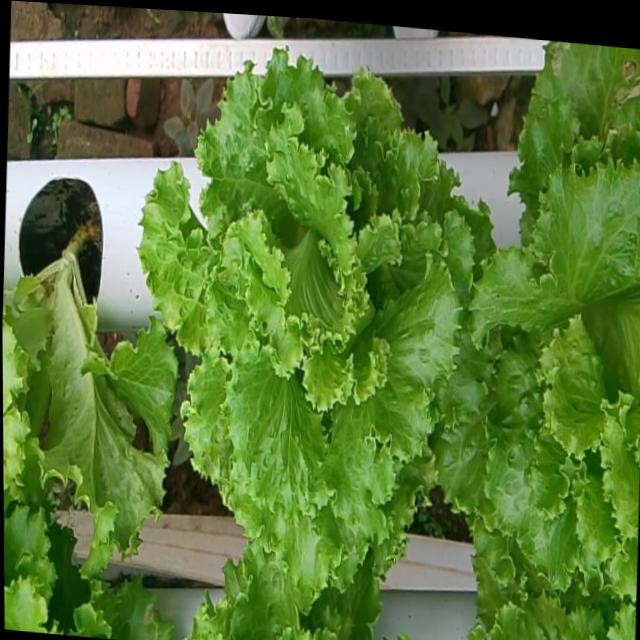Mature: (144, 36, 480, 579), (440, 143, 640, 581)
